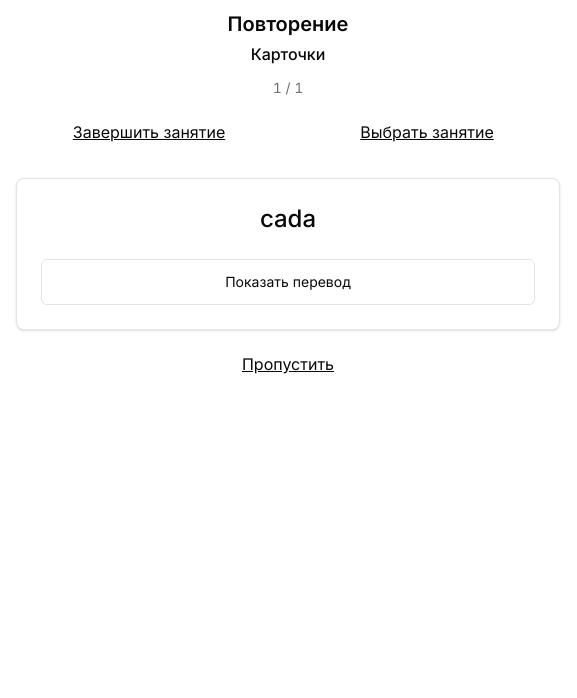
ReviewPage session flow (cards mode) › shows graduation toast when answer graduates the item to known (spec §6)
This screenshot has width=577, height=698.
Click the button "Показать перевод" at (288, 282), box [41,259,535,305]
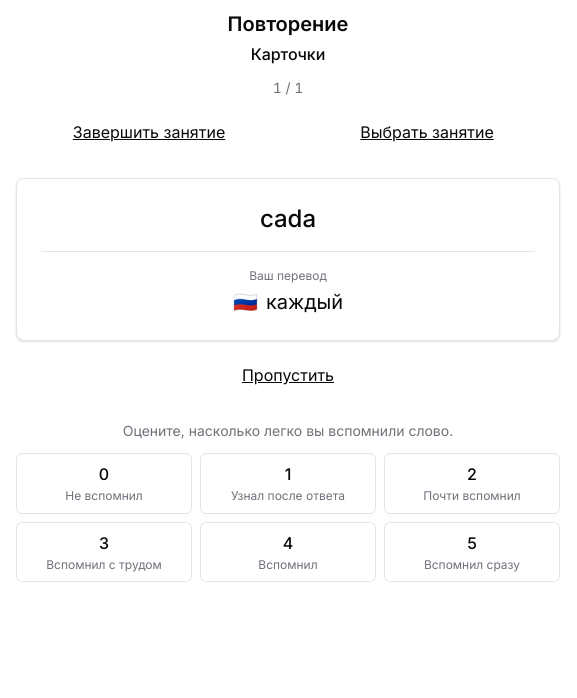
Click the button "5 Вспомнил сразу" at (472, 552), box [384,522,560,582]
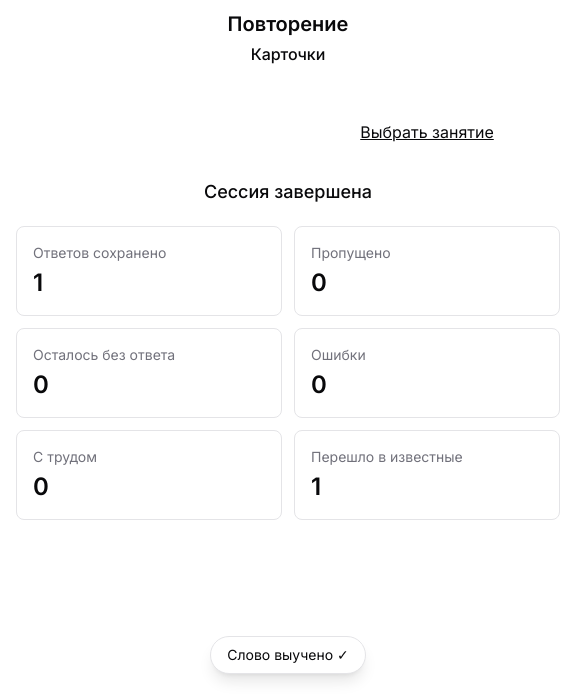
Result: the text "Слово выучено ✓" is shown at [210,636,366,674]
